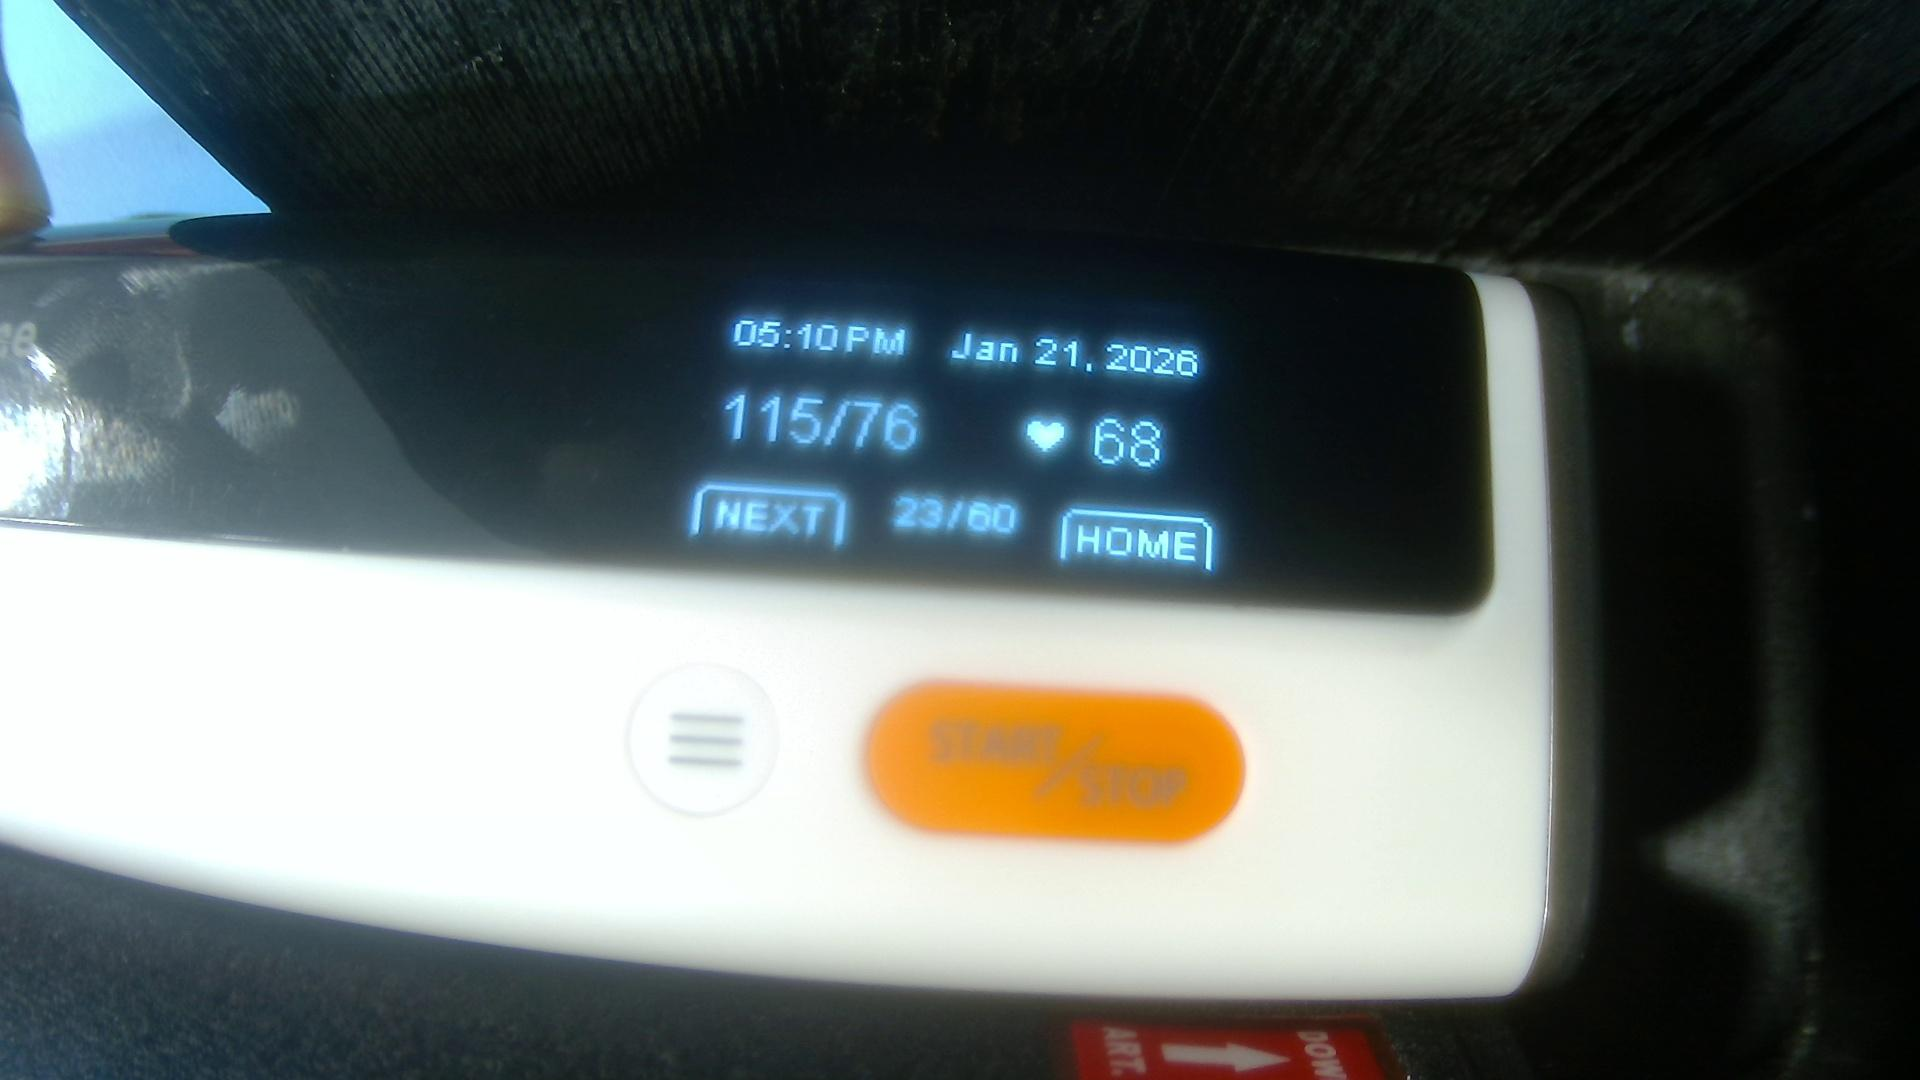DISPLAY: (7, 240, 1470, 614)
